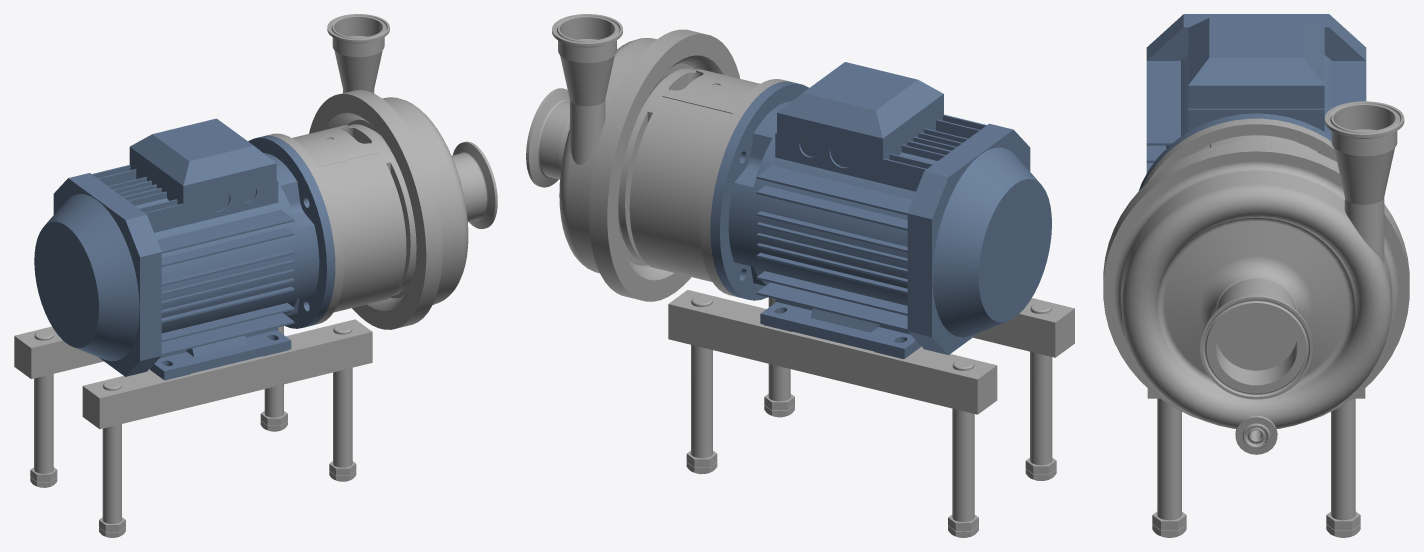
Rendered from P-1203 A & B feed water pumps_light.glb.
3 renders of one model, left to right at view 1: azimuth 30°, elevation 25°; view 2: azimuth 150°, elevation 25°; view 3: azimuth 270°, elevation 25°, orthographic. The views are drawn at different scales.
Parts seen in each view (by area): view 1: Solid1 (×12); view 2: Solid1 (×13); view 3: Solid1 (×9).
Part boxes in pixels (x1,y1,x2,y2): Solid1 (×12): (14, 14, 497, 531); Solid1 (×13): (526, 14, 1074, 530); Solid1 (×9): (1103, 14, 1409, 530).
Size of the model in its own units: 0.4942 by 0.4219 by 0.2467.
